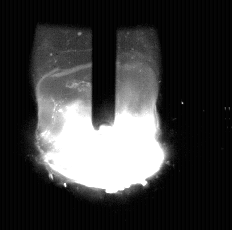arame: (93, 0, 116, 128)
poca: (35, 0, 162, 230)
